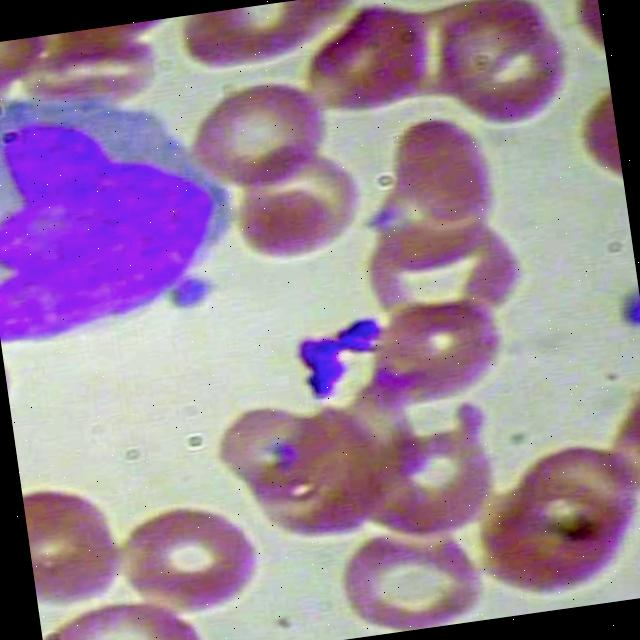Platelets: (286, 327, 348, 373), (170, 270, 223, 318), (334, 308, 384, 358), (300, 360, 354, 405)
RBC: (364, 280, 518, 422), (108, 498, 262, 622), (338, 518, 492, 639), (193, 71, 336, 194), (230, 146, 374, 268), (20, 474, 140, 611), (38, 593, 211, 640)
WBC: (0, 64, 253, 359)
